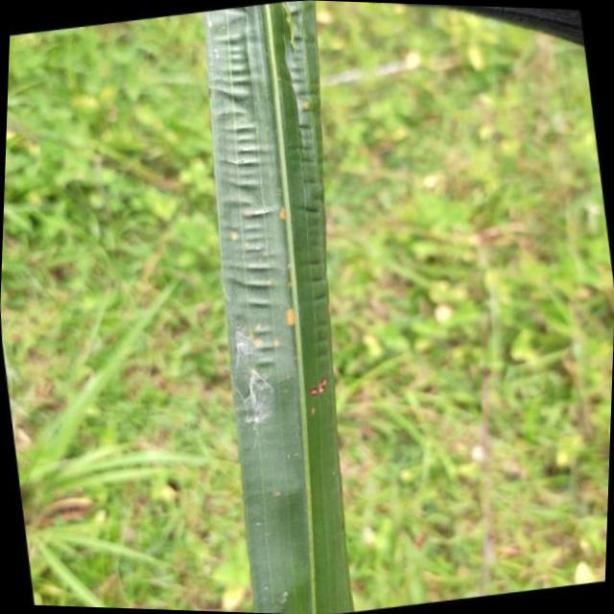Boron: (206, 1, 353, 614)
